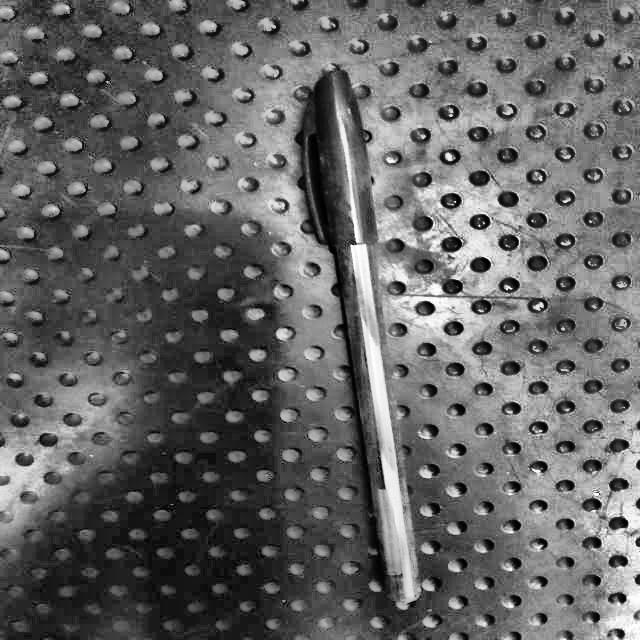Pen: (276, 50, 466, 628)
